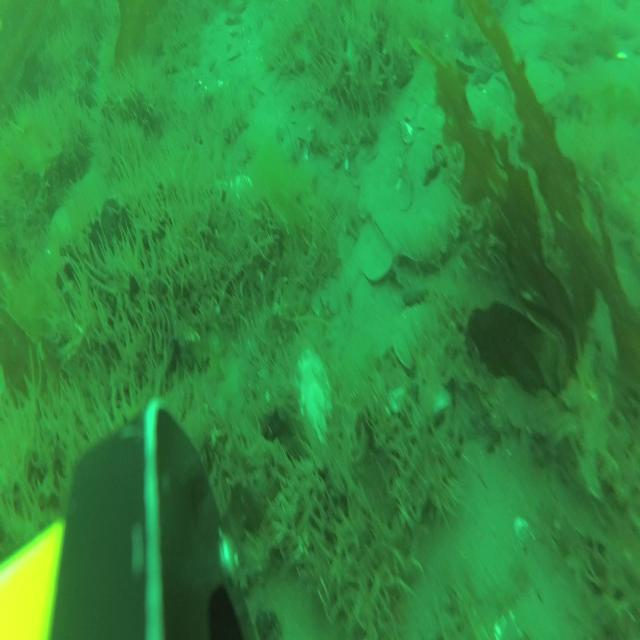scallop: (292, 348, 336, 448), (392, 302, 442, 370), (50, 204, 75, 240), (229, 175, 255, 204), (518, 5, 540, 23)
